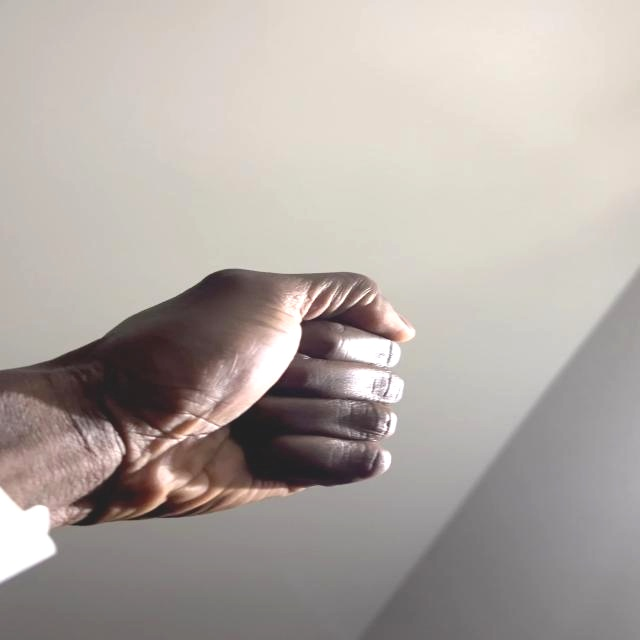Rock: (55, 268, 415, 531)
